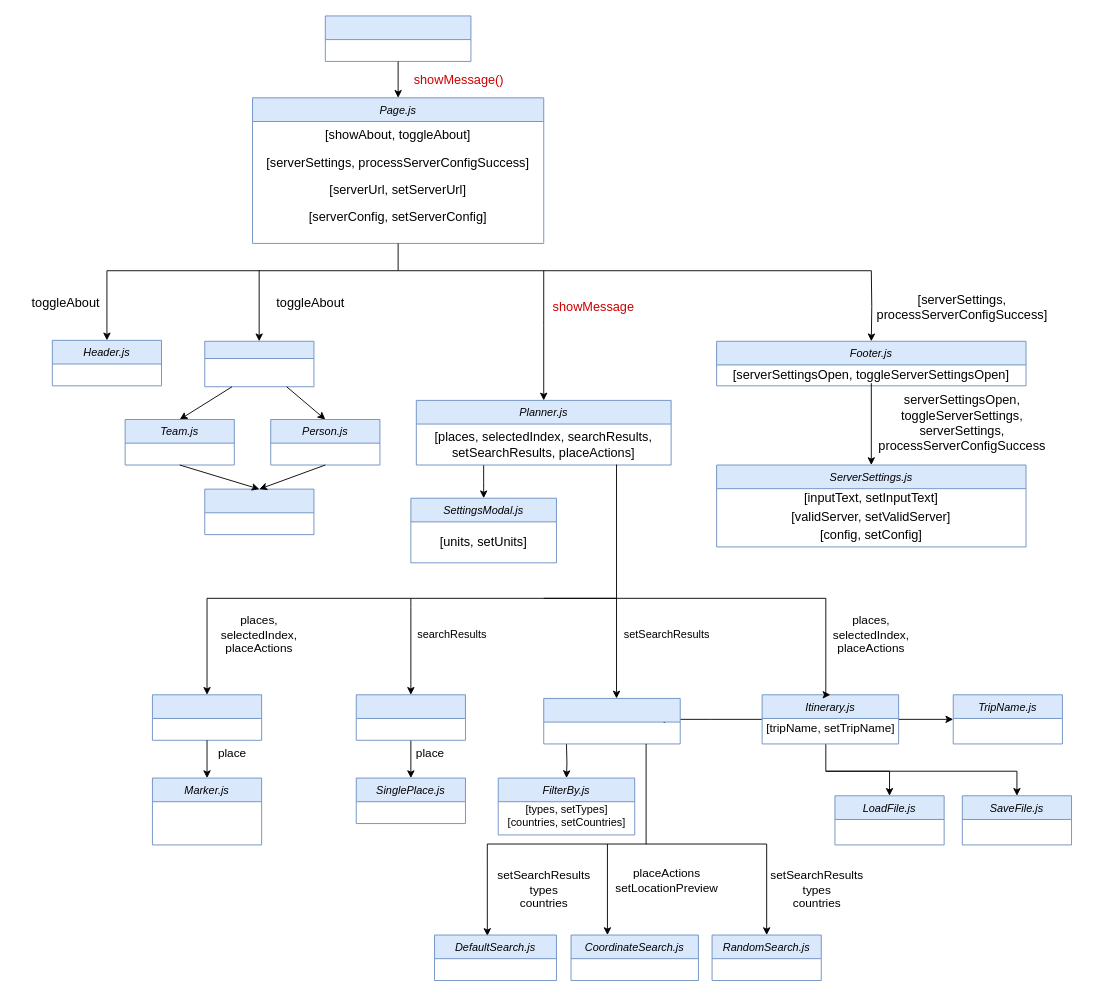
The diagram is 1118 pixels wide and 996 high, and some of its shapes have lost their labels. Here are the shapes that lost their labels. From the top down, the centre of each, then its label:
(x=397, y=38): App.js
(x=259, y=363): About.js
(x=259, y=511): AboutCard.js
(x=207, y=717): Map.js
(x=410, y=717): Results.js
(x=611, y=721): Search.js
